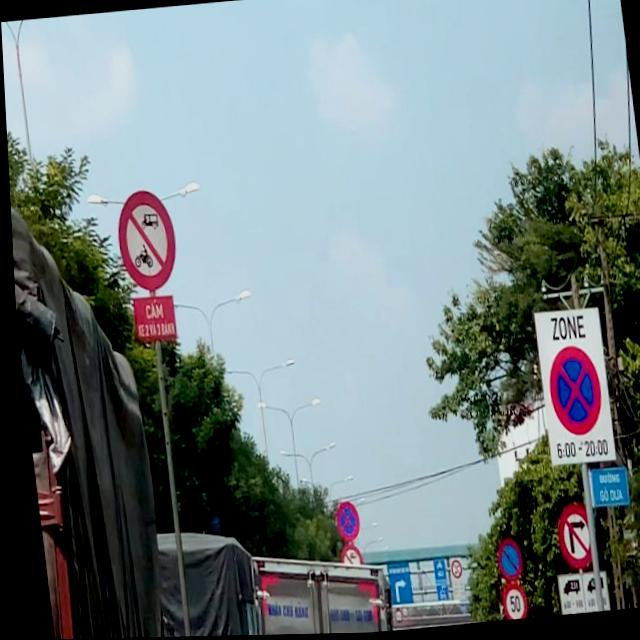Cam do xe: (487, 537, 520, 586)
Cam dung xe va do xe: (539, 343, 602, 442), (328, 500, 356, 545)
Cam re phai: (548, 502, 588, 574)
Toc do toi da cho phep: (493, 584, 520, 622)
